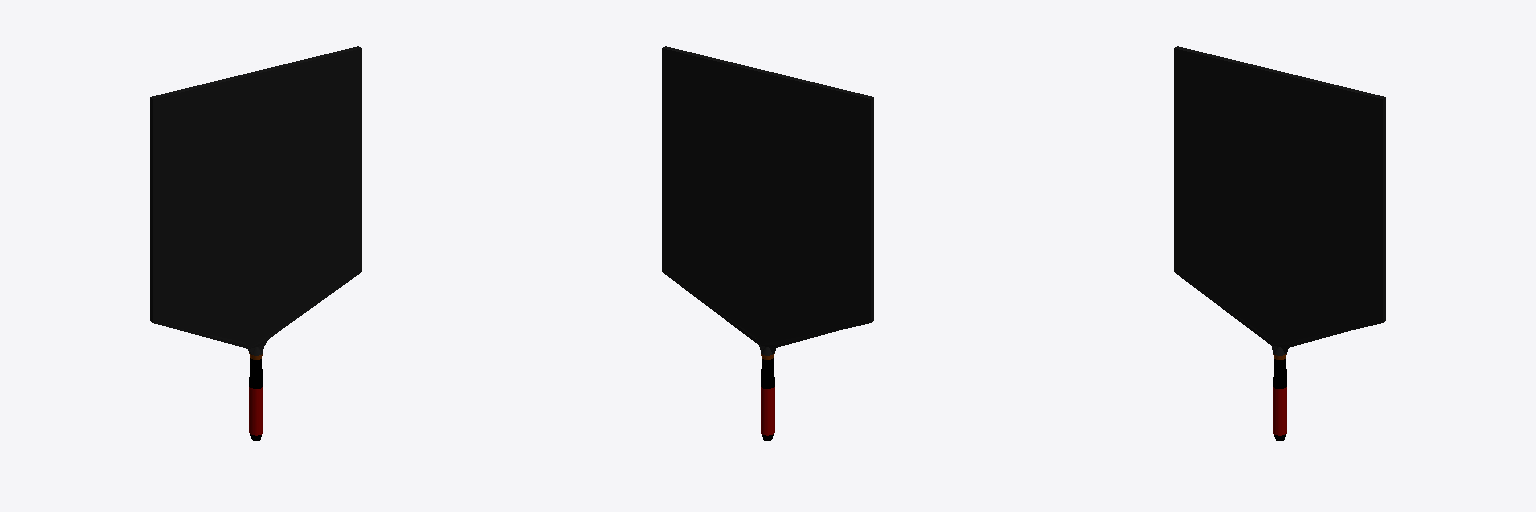
The model's file is autoplane.obj.
3 renders of one model, left to right at view 1: azimuth 30°, elevation 25°; view 2: azimuth 150°, elevation 25°; view 3: azimuth 330°, elevation 25°, orthographic.
Parts seen in each view (by area): view 1: Cube; view 2: Cube; view 3: Cube.
Boxes of the visible parts, box(x1,y1,x2,y2) form: Cube: box(150, 46, 361, 440); Cube: box(662, 46, 873, 440); Cube: box(1174, 46, 1385, 440).
Bounding box in the file's own units: 0.6077 × 1.02 × 0.0373.